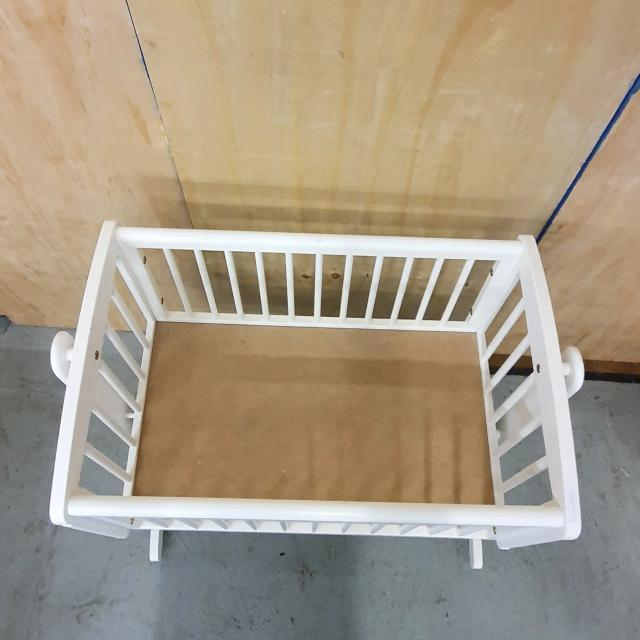crib: (48, 217, 585, 569)
